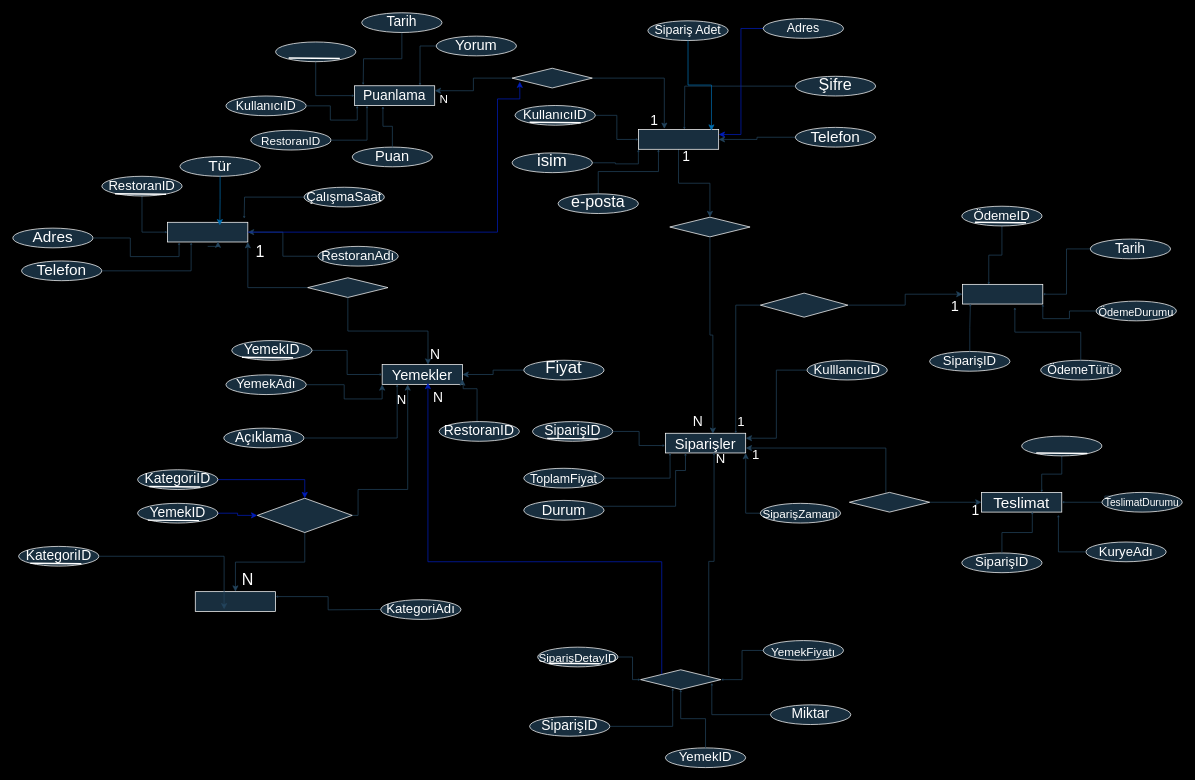
Image size: 1195x780. Some labels were removed from this diagram. The centre of each missing label's shape, as x and y in pixels:
"Kategori" belongs at (235,601).
"kullanıcılar" belongs at (678,139).
"Restoranlar" belongs at (207,232).
"Sahiptir" belongs at (347,287).
"Sipariş Detay" belongs at (680,679).
"Teslim Edilir" belongs at (889,502).
"TeslimatID" belongs at (1061,445).
"Verir" belongs at (709,226).
"Yapar" belongs at (551,78).
"YemekKategori" belongs at (304,515).
"YorumID" belongs at (315,51).
"Ödeme Yapar" belongs at (804,304).
"ÖdemeBilgileri" belongs at (1002,294).
